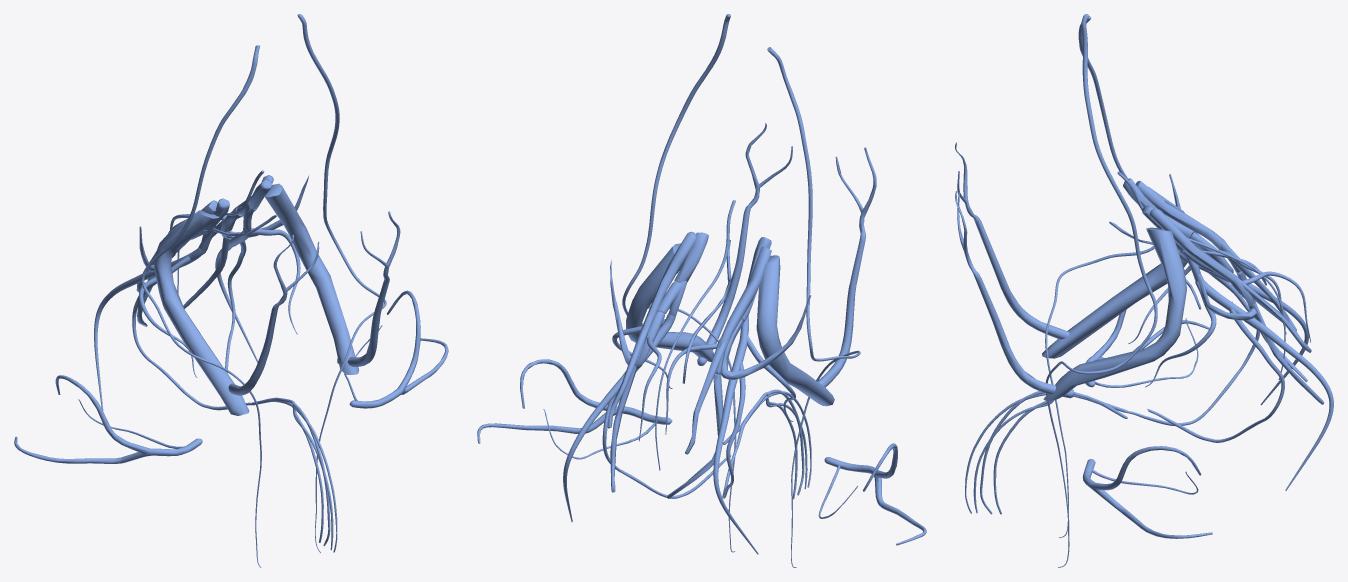
File: veines-bassin.lo.glb
3 views of the same model, side by side, from view 1: azimuth 30°, elevation 25°; view 2: azimuth 150°, elevation 25°; view 3: azimuth 270°, elevation 25° (orthographic). The views are drawn at different scales.
Visible parts, largest first — view 1: FJ3568, FJ3484, FJ3618, FJ2201, FJ3533, FJ2188, FJ3615, FJ3530, FJ3606, FJ3610, FJ3513, FJ3612 (+5 smaller); view 2: FJ3568, FJ3484, FJ3618, FJ3533, FJ2188, FJ3615, FJ3606, FJ2201, FJ3530, FJ3570, FJ3513, FJ3469 (+14 smaller); view 3: FJ3484, FJ3568, FJ3533, FJ3513, FJ2188, FJ3618, FJ3615, FJ3530, FJ3469, FJ3570, FJ3525, FJ3610 (+14 smaller).
Part boxes in pixels (<box>): FJ3568: <box>154,210,249,415</box>; FJ3484: <box>264,183,358,374</box>; FJ3618: <box>141,45,261,567</box>; FJ2201: <box>14,375,202,463</box>; FJ3533: <box>297,14,386,552</box>; FJ2188: <box>349,290,448,408</box>; FJ3615: <box>228,234,319,395</box>; FJ3530: <box>348,211,400,366</box>; FJ3606: <box>94,247,205,410</box>; FJ3610: <box>132,266,254,410</box>; FJ3513: <box>215,227,258,362</box>; FJ3612: <box>139,256,197,377</box>; FJ3568: <box>756,255,834,406</box>; FJ3484: <box>626,243,714,361</box>; FJ3618: <box>767,47,860,567</box>; FJ3533: <box>622,14,736,552</box>; FJ2188: <box>477,359,672,443</box>; FJ3615: <box>817,147,876,387</box>; FJ3606: <box>713,318,758,554</box>; FJ2201: <box>824,443,926,545</box>; FJ3530: <box>706,123,792,350</box>; FJ3570: <box>715,246,771,374</box>; FJ3513: <box>563,313,675,521</box>; FJ3469: <box>638,231,696,357</box>; FJ3484: <box>1043,227,1186,400</box>; FJ3568: <box>1042,186,1194,358</box>; FJ3533: <box>1045,14,1157,567</box>; FJ3513: <box>1197,274,1333,490</box>; FJ2188: <box>1082,446,1212,538</box>; FJ3618: <box>1045,16,1154,537</box>; FJ3615: <box>955,142,1069,339</box>; FJ3530: <box>955,191,1055,394</box>; FJ3469: <box>1149,208,1254,305</box>; FJ3570: <box>1136,181,1241,272</box>; FJ3525: <box>1147,301,1284,442</box>; FJ3610: <box>1123,273,1260,425</box>.
Size of the model in its own units: 0.2925 by 0.3467 by 0.2164.
